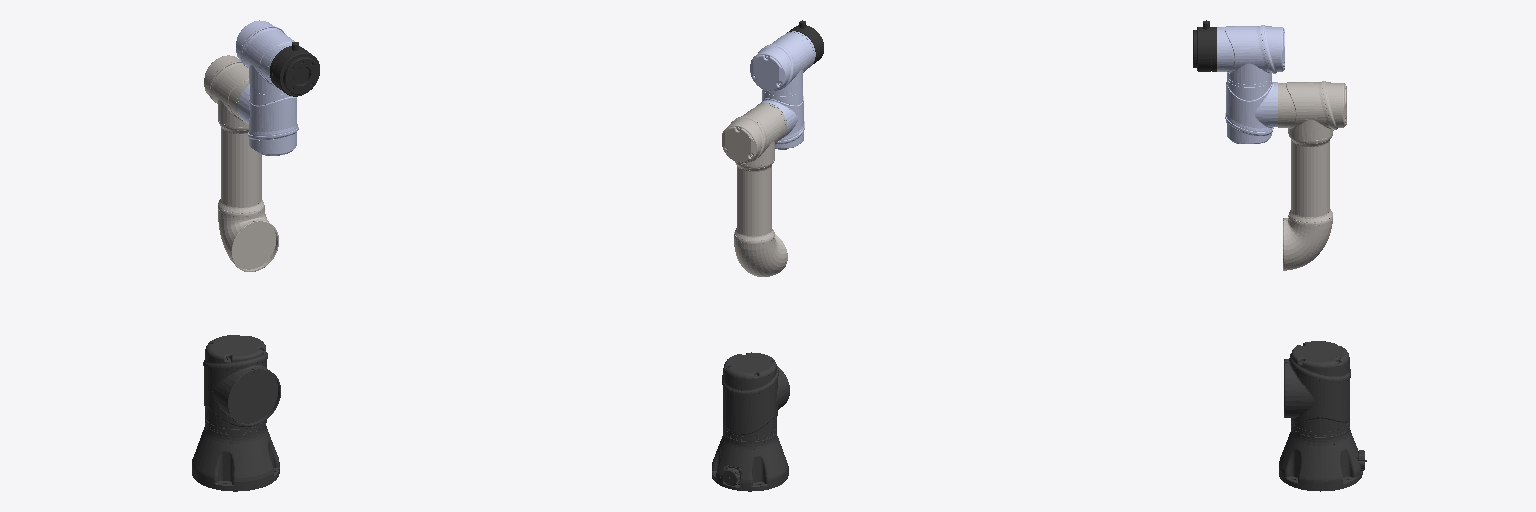
The robot description file, URDF, robot "aubo_i3":
<?xml version="1.0"?>
<robot name="aubo_i3">

  <link name="base_link">
    <inertial>
      <origin xyz="2.1698E-06 0.00017917 0.036984" rpy="0 1.5708 0" />
      <mass value="0.97332" />
      <inertia ixx="0.0015063" ixy="0" ixz="0" iyy="0.0014907" iyz="0" izz="0.0019063" />
    </inertial>
    <visual>
      <origin xyz="0 0 0" rpy="0 0 0" />
      <geometry>
        <mesh filename="meshes/visual/base_link.DAE" />
      </geometry>
      <material name="">
        <color rgba="0.29804 0.29804 0.29804 1" />
      </material>
    </visual>
    <collision>
      <origin  xyz="0 0 0"  rpy="0 0 0" />
      <geometry>
        <mesh filename="meshes/collision/base_link.STL" />
      </geometry>
    </collision>
  </link>

  <link name="shoulder_Link">
    <inertial>
      <origin xyz="-2.9523E-07 0.0037104 -0.0023315" rpy="0 0 0" />
      <mass value="1.173" />
      <inertia ixx="0.0026259" ixy="0" ixz="0" iyy="0.0025333" iyz="0" izz="0.0016014" />
    </inertial>
    <visual>
      <origin xyz="0 0 0" rpy="0 0 0" />
      <geometry>
        <mesh filename="meshes/visual/shoulder_Link.DAE" />
      </geometry>
      <material name="">
        <color rgba="0.29804 0.29804 0.29804 1" />
      </material>
    </visual>
    <collision>
      <origin xyz="0 0 0" rpy="0 0 0" />
      <geometry>
        <mesh filename="meshes/collision/shoulder_Link.STL" />
      </geometry>
    </collision>
  </link>

  <joint name="shoulder_joint" type="revolute">
    <origin xyz="0 0 0.157" rpy="0 0 3.1416" />
    <parent link="base_link" />
    <child link="shoulder_Link" />
    <axis xyz="0 0 1" />
    <limit lower="-6.18" upper="6.18" effort="100" velocity="3.0" />
  </joint>

  <link name="upperArm_Link">
    <inertial>
      <origin xyz="0.1186 1.7713E-06 0.0063972" rpy="0 0 0" />
      <mass value="2.7791" />
      <inertia ixx="0.0046752" ixy="0" ixz="0.00015757" iyy="0.040156" iyz="0" izz="0.038401" />
    </inertial>
    <visual>
      <origin  xyz="0 0 0" rpy="0 0 0" />
      <geometry>
        <mesh filename="meshes/visual/upperArm_Link.DAE" />
      </geometry>
      <material name="">
        <color rgba="0.29804 0.29804 0.29804 1" />
      </material>
    </visual>
    <collision>
      <origin xyz="0 0 0" rpy="0 0 0" />
      <geometry>
        <mesh filename="meshes/collision/upperArm_Link.STL" />
      </geometry>
    </collision>
  </link>

  <joint name="upperArm_joint" type="revolute">
    <origin xyz="0 0.119 0" rpy="-1.5708 -1.5708 0" />
    <parent link="shoulder_Link" />
    <child link="upperArm_Link" />
    <axis xyz="0 0 1" />
    <limit lower="-3.04" upper="3.04" effort="100" velocity="3.0" />
  </joint>

  <link name="foreArm_Link">
    <inertial>
      <origin xyz="0.15095 3.6355E-05 0.1001" rpy="0 0 0" />
      <mass value="1.5214" />
      <inertia ixx="0.0014873" ixy="0" ixz="-0.00055006" iyy="0.016144" iyz="0" izz="0.015711" />
    </inertial>
    <visual>
      <origin xyz="0 0 0" rpy="0 0 0" />
      <geometry>
        <mesh filename="meshes/visual/foreArm_Link.DAE" />
      </geometry>
      <material name="">
        <color rgba="0.77647 0.75686 0.73725 1" />
      </material>
    </visual>
    <collision>
      <origin xyz="0 0 0" rpy="0 0 0" />
      <geometry>
        <mesh filename="meshes/collision/foreArm_Link.STL" />
      </geometry>
    </collision>
  </link>

  <joint name="foreArm_joint" type="revolute">
    <origin xyz="0.266 0 0" rpy="3.1416 0 0" />
    <parent link="upperArm_Link" />
    <child link="foreArm_Link" />
    <axis xyz="0 0 1" />
    <limit lower="-3.04" upper="3.04" effort="100" velocity="3.0" />
  </joint>

  <link name="wrist1_Link">
    <inertial>
      <origin xyz="-7.0582E-05 -0.0015345 -0.0029597" rpy="0 0 0" />
      <mass value="0.63348" />
      <inertia ixx="0.0009362" ixy="0" ixz="0" iyy="0.00051333" iyz="0" izz="0.00090515" />
    </inertial>
    <visual>
      <origin xyz="0 0 0" rpy="0 0 0" />
      <geometry>
        <mesh filename="meshes/visual/wrist1_Link.DAE" />
      </geometry>
      <material name="">
        <color rgba="0.79216 0.81961 0.93333 1" />
      </material>
    </visual>
    <collision>
      <origin xyz="0 0 0" rpy="0 0 0" />
      <geometry>
        <mesh filename="meshes/collision/wrist1_Link.STL" />
      </geometry>
    </collision>
  </link>

  <joint name="wrist1_joint" type="revolute">
    <origin xyz="0.2565 0 0" rpy="3.1416 0 1.5708" />
    <parent link="foreArm_Link" />
    <child link="wrist1_Link" />
    <axis xyz="0 0 -1" />
    <limit lower="-3.04" upper="3.04" effort="100" velocity="3.0" />
  </joint>

  <link name="wrist2_Link">
    <inertial>
      <origin xyz="7.0582E-05 0.0015345 -0.0029597" rpy="0 0 0" />
      <mass value="0.63348" />
      <inertia ixx="0.0009362" ixy="0" ixz="0" iyy="0.00051333" iyz="7.4602E-06" izz="0.00090515" />
    </inertial>
    <visual>
      <origin xyz="0 0 0" rpy="0 0 0" />
      <geometry>
        <mesh filename="meshes/visual/wrist2_Link.DAE" />
      </geometry>
      <material name="">
        <color rgba="0.79216 0.81961 0.93333 1" />
      </material>
    </visual>
    <collision>
      <origin xyz="0 0 0" rpy="0 0 0" />
      <geometry>
        <mesh filename="meshes/collision/wrist2_Link.STL" />
      </geometry>
    </collision>
  </link>

  <joint name="wrist2_joint" type="revolute">
    <origin xyz="0 0.1025 0" rpy="-1.5708 0 0" />
    <parent link="wrist1_Link" />
    <child  link="wrist2_Link" />
    <axis xyz="0 0 1" />
    <limit lower="-3.04" upper="3.04" effort="100" velocity="3.0" />
  </joint>

  <link name="wrist3_Link">
    <inertial>
      <origin xyz="8.8789E-10 0.00040506 -0.01865" rpy="0 0 0" />
      <mass value="0.13713" />
      <inertia ixx="6.1911E-05" ixy="0"  ixz="0" iyy="5.9471E-05" iyz="2.8126E-07" izz="9.7957E-05" />
    </inertial>
    <visual>
      <origin xyz="0 0 0" rpy="0 0 0" />
      <geometry>
        <mesh filename="meshes/visual/wrist3_Link.DAE" />
      </geometry>
      <material name="">
        <color rgba="0.25098 0.25098 0.25098 1" />
      </material>
    </visual>
    <collision>
      <origin  xyz="0 0 0" rpy="0 0 0" />
      <geometry>
        <mesh filename="meshes/collision/wrist3_Link.STL" />
      </geometry>
    </collision>
  </link>

  <joint name="wrist3_joint" type="revolute">
    <origin xyz="0 -0.094 0" rpy="1.5708 0 0" />
    <parent link="wrist2_Link" />
    <child link="wrist3_Link" />
    <axis xyz="0 0 -1" />
    <limit lower="-6.18" upper="6.18" effort="100" velocity="3.0" />
  </joint>

  <!-- <link name="world" />

  <joint name="world_joint" type="fixed">
    <parent link="world" />
    <child link = "base_link" />
    <origin xyz="0.0 0.0 0.0" rpy="0.0 0.0 0.0" />
  </joint> -->
</robot>

--- What the picture shows (computed from the rendered views, not written in the file) ---
The picture shows the robot from 3 angles, left to right: view 1: azimuth 30°, elevation 25°; view 2: azimuth 150°, elevation 25°; view 3: azimuth 270°, elevation 25°; orthographic projection.
Model aubo_i3 with 7 links and 6 joints (6 revolute), rooted at base_link, posed every joint at zero.
Visible links, largest first — view 1: foreArm_Link, shoulder_Link, base_link, wrist1_Link, wrist2_Link, wrist3_Link; view 2: foreArm_Link, shoulder_Link, base_link, wrist2_Link, wrist1_Link; view 3: foreArm_Link, shoulder_Link, base_link, wrist2_Link, wrist1_Link, wrist3_Link.
Boxes of the visible links, <box> form: foreArm_Link: <box>204,55,278,271</box>; shoulder_Link: <box>203,335,280,434</box>; base_link: <box>192,424,279,491</box>; wrist1_Link: <box>238,85,298,155</box>; wrist2_Link: <box>236,20,300,91</box>; wrist3_Link: <box>270,42,319,96</box>; foreArm_Link: <box>722,103,787,276</box>; shoulder_Link: <box>722,352,789,441</box>; base_link: <box>712,432,788,491</box>; wrist2_Link: <box>750,31,815,93</box>; wrist1_Link: <box>757,88,804,149</box>; foreArm_Link: <box>1278,81,1346,270</box>; shoulder_Link: <box>1284,341,1350,436</box>; base_link: <box>1279,426,1366,491</box>; wrist2_Link: <box>1217,25,1284,84</box>; wrist1_Link: <box>1225,73,1277,143</box>; wrist3_Link: <box>1193,20,1216,71</box>.
Bounding box of the posed robot: 0.14 × 0.2902 × 0.8326 m (x, y, z).
Meshes: 7 distinct files referenced, 6 mesh visuals loaded (6 Collada DAE); not drawn: 1 (reference not matched to a file when rendering).
